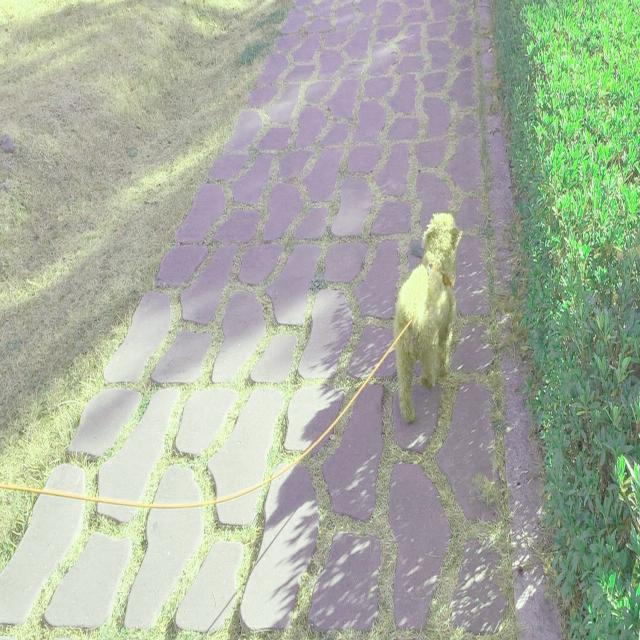Dog: (394, 211, 464, 425)
